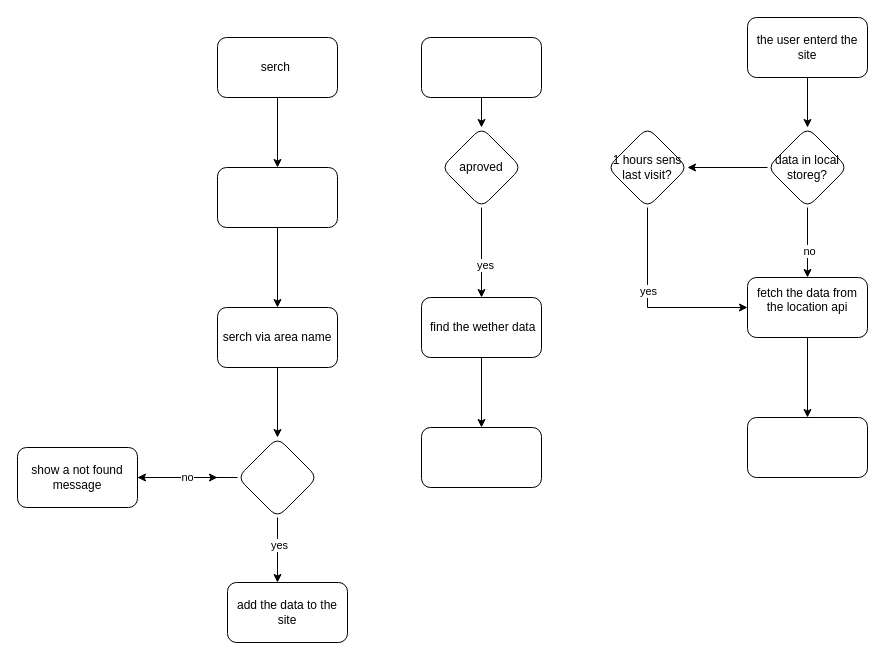
Some shapes in this 885 by 660 pixel diagram are drawn without their labels. Each missing label, with the centre of its shape:
ask the user promition to get his location: point (481, 67)
get the data from the local storeg: point (277, 197)
if found?: point (277, 477)
show the data on the site: point (481, 457)
update local storag: point (807, 447)
